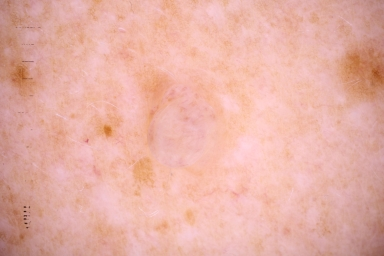nevus: (164, 86, 216, 161)
